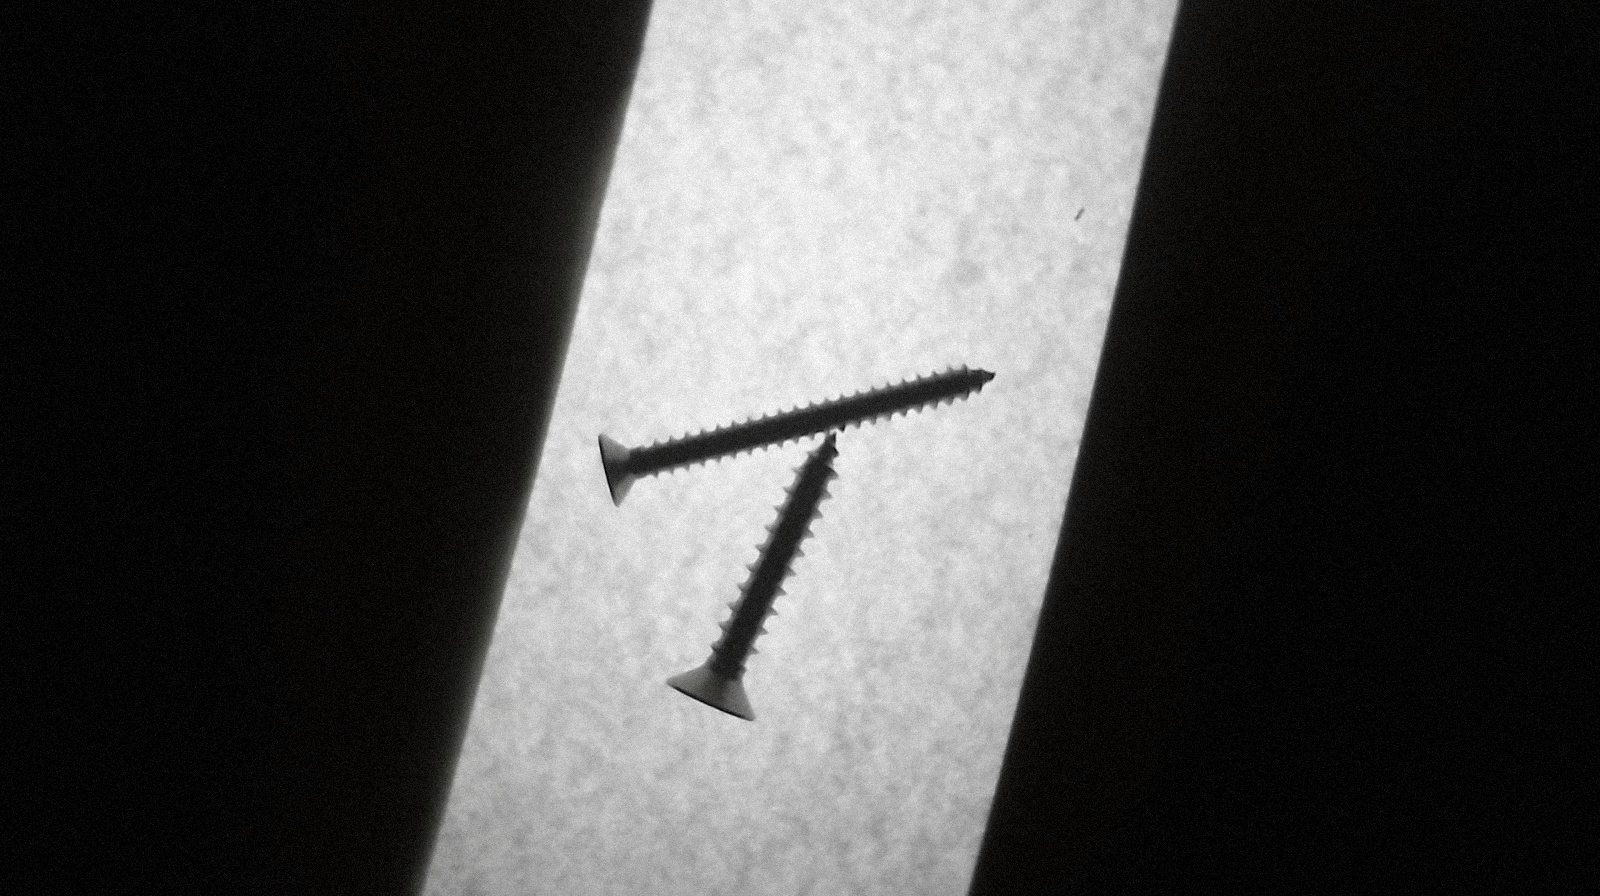S001: (657, 430, 844, 726)
S002: (595, 359, 997, 511)
